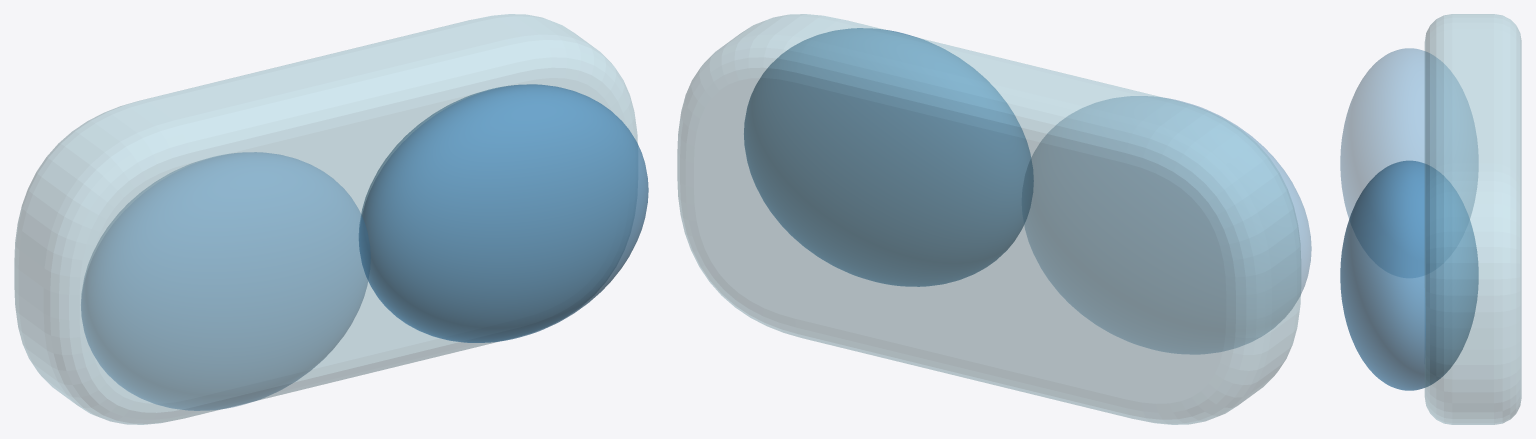
The picture shows the model from 3 angles, left to right: view 1: azimuth 30°, elevation 25°; view 2: azimuth 150°, elevation 25°; view 3: azimuth 270°, elevation 25°; orthographic projection. The views are drawn at different scales.
Parts seen in each view (by area): view 1: shared-cradle, right-action, left-action; view 2: shared-cradle, right-action, left-action; view 3: shared-cradle, right-action, left-action.
Boxes of the visible parts, x1=… form: shared-cradle: x1=14, y1=14, x2=637, y2=424; right-action: x1=359, y1=84, x2=648, y2=342; left-action: x1=81, y1=152, x2=370, y2=410; shared-cradle: x1=677, y1=14, x2=1300, y2=424; right-action: x1=744, y1=28, x2=1033, y2=286; left-action: x1=1022, y1=96, x2=1311, y2=354; shared-cradle: x1=1425, y1=14, x2=1521, y2=424; right-action: x1=1340, y1=160, x2=1478, y2=390; left-action: x1=1340, y1=48, x2=1478, y2=218.
Bounding box in the file's own units: 2.04 × 0.98 × 0.655.
